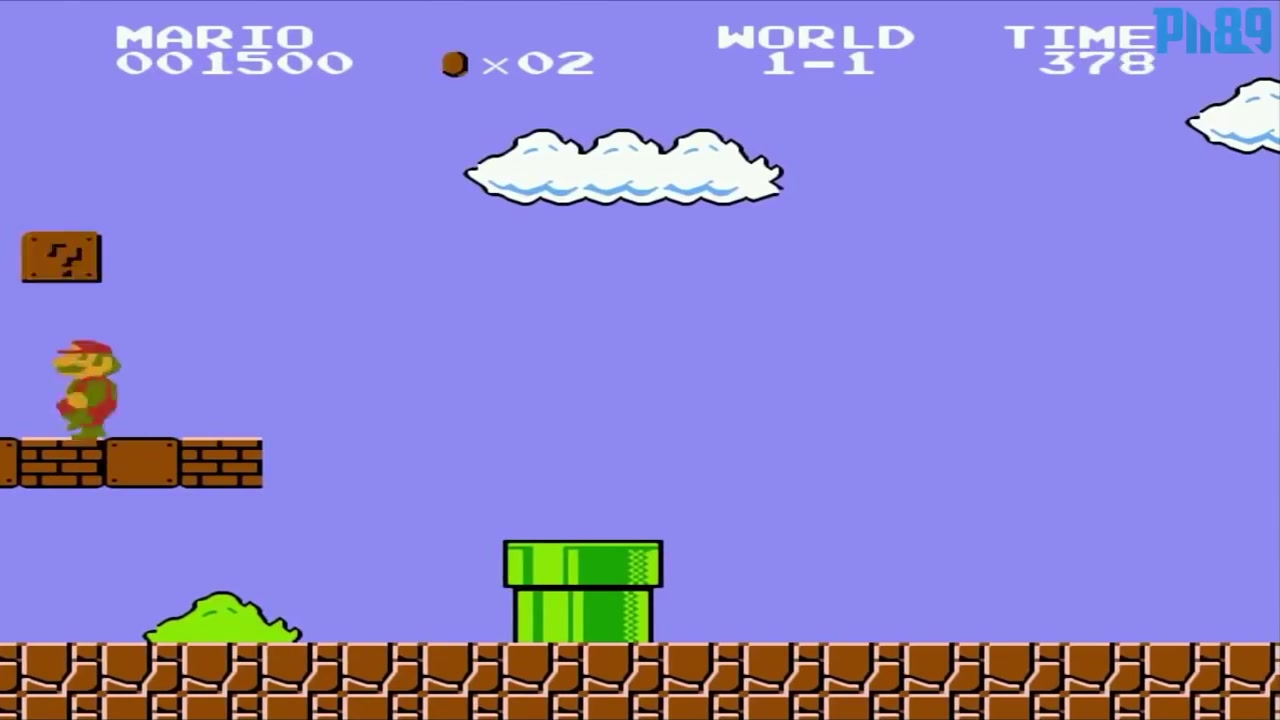mario: (40, 332, 128, 438)
